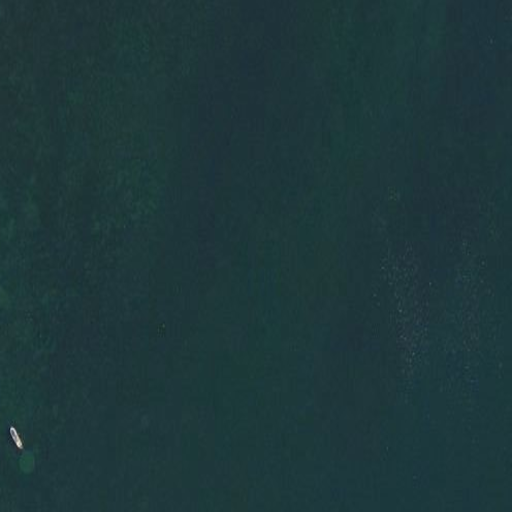ship: (8, 427, 23, 449)
